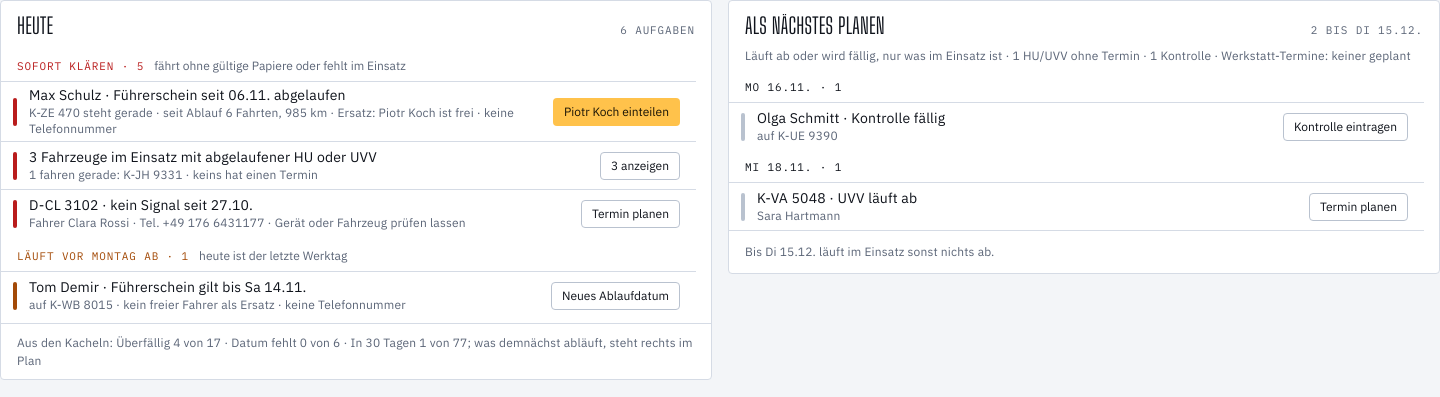
Scenario: Schicht: Heute › folds three of a kind into one row that opens inline
The width and height of the screenshot is (1440, 397).
Expected: the text "1 fahren gerade: K-JH 9331 · keins hat einen Termin" is shown, 29,167 -> 318,182
Expected: the link "K-GC 1877" is not shown
Click the button "3 anzeigen" at (640, 166), box 600,152 -> 680,180
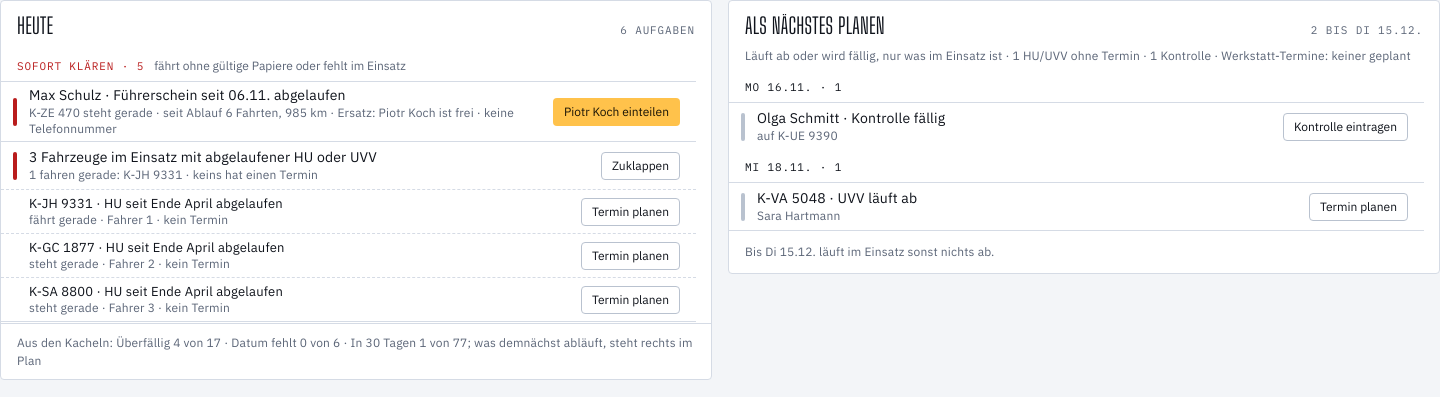
Expected: the button "Termin planen" in the row of "K-GC 1877" is shown, 581,242 -> 680,270
Expected: the button "Zuklappen" is expanded, 601,152 -> 680,180
